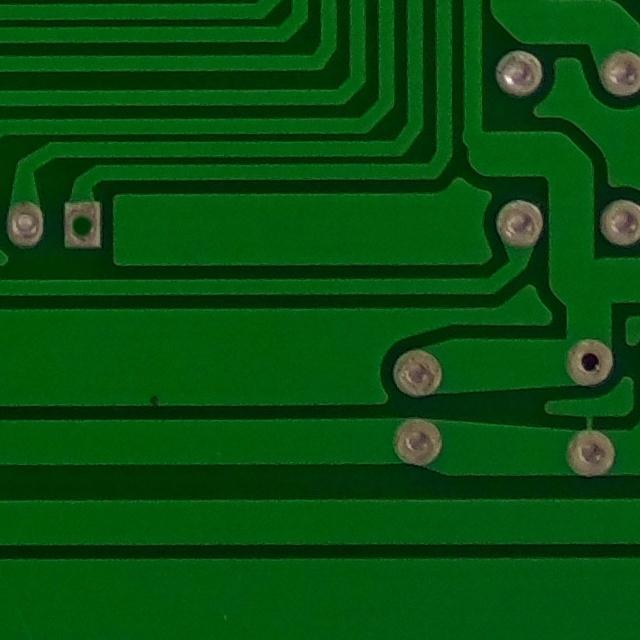missing_hole: (56, 195, 113, 258)
